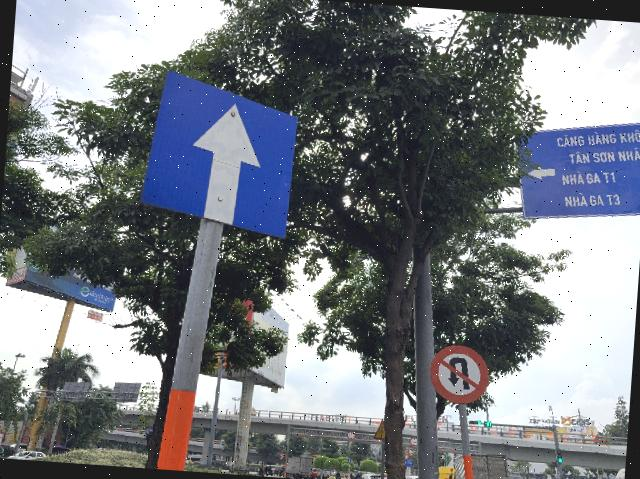cam-quay-dau-xe: (427, 342, 491, 406)
duong-mot-chieu: (137, 68, 300, 239)
